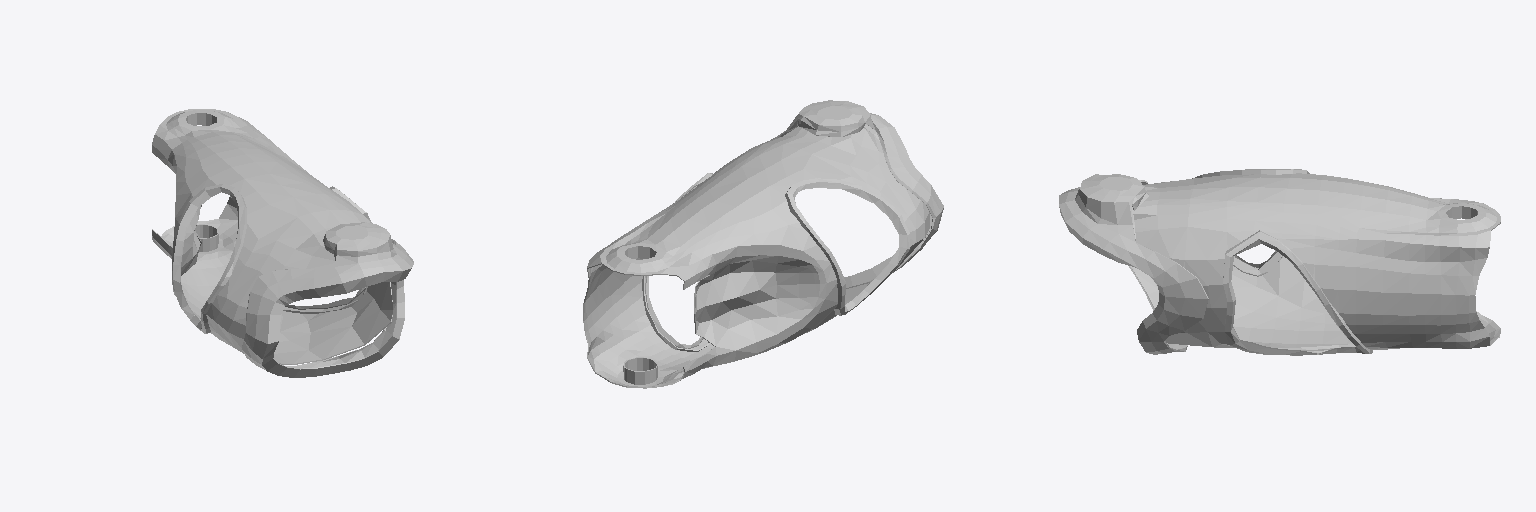
The model's file is LHipPitch_mainskin.obj.
3 views of the same model, side by side, from view 1: azimuth 30°, elevation 25°; view 2: azimuth 150°, elevation 25°; view 3: azimuth 270°, elevation 25° (orthographic).
Bounding box in the file's own units: 0.1897 × 0.1476 × 0.3723.